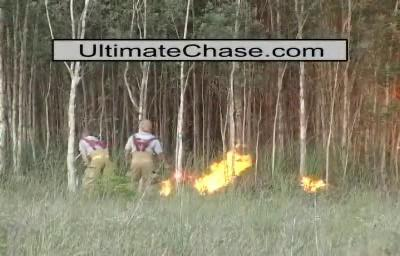fire: (199, 155, 249, 191), (302, 175, 325, 193)
